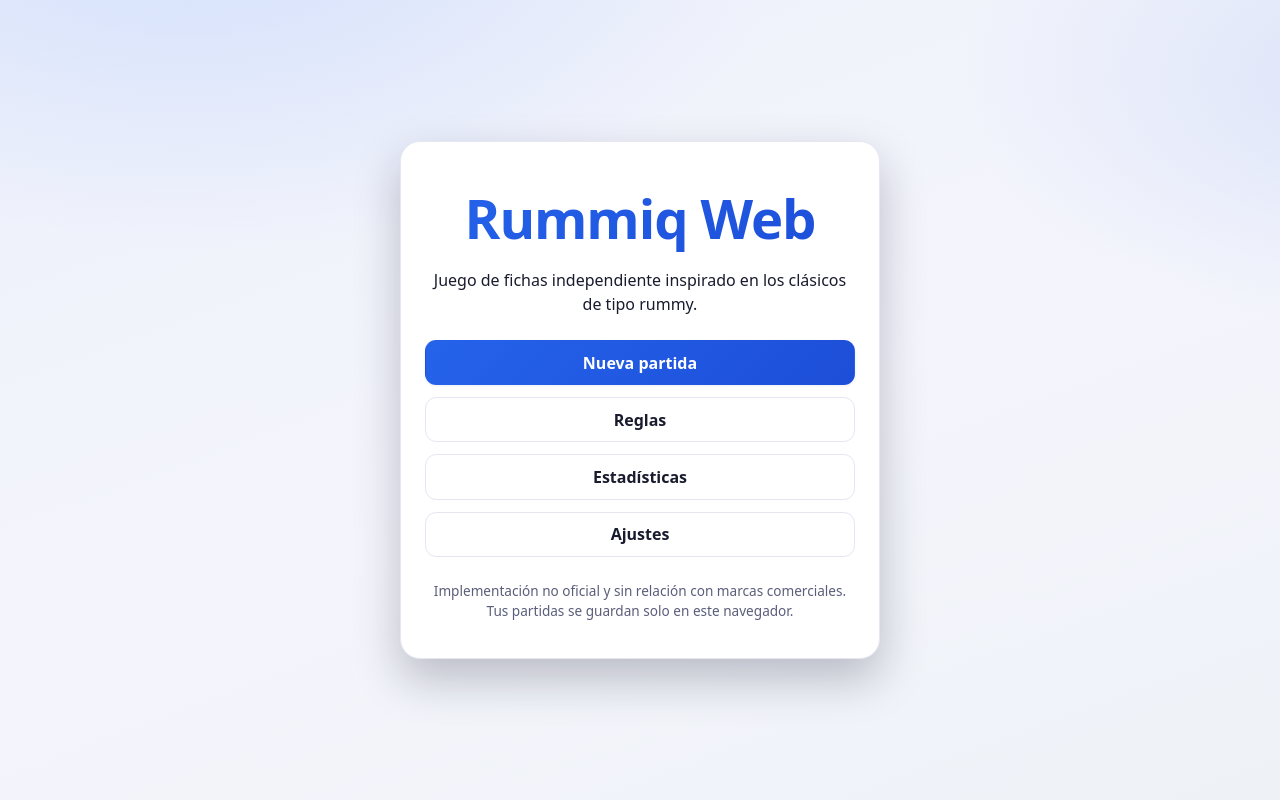
Test: flujo principal › permite configurar una partida, entrar al tablero y robar una ficha
This screenshot has width=1280, height=800.
Click the button "Nueva partida" at (640, 363), box [425,340,855,385]
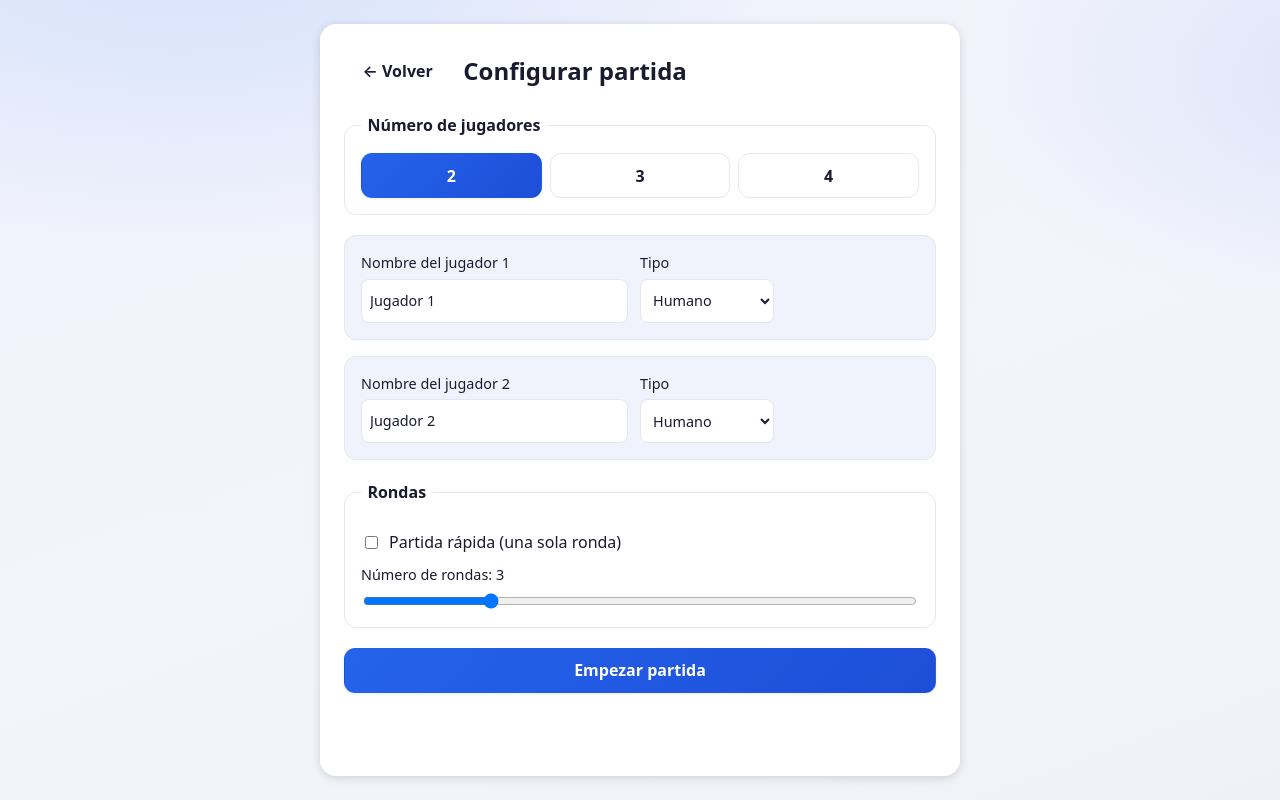
expect the heading "Configurar partida" is shown: met, box [463,53,687,89]
// Empezar con la configuración por defecto (2 jugadores humanos).
Click the button "Empezar partida" at (640, 670), box [344,648,936,693]
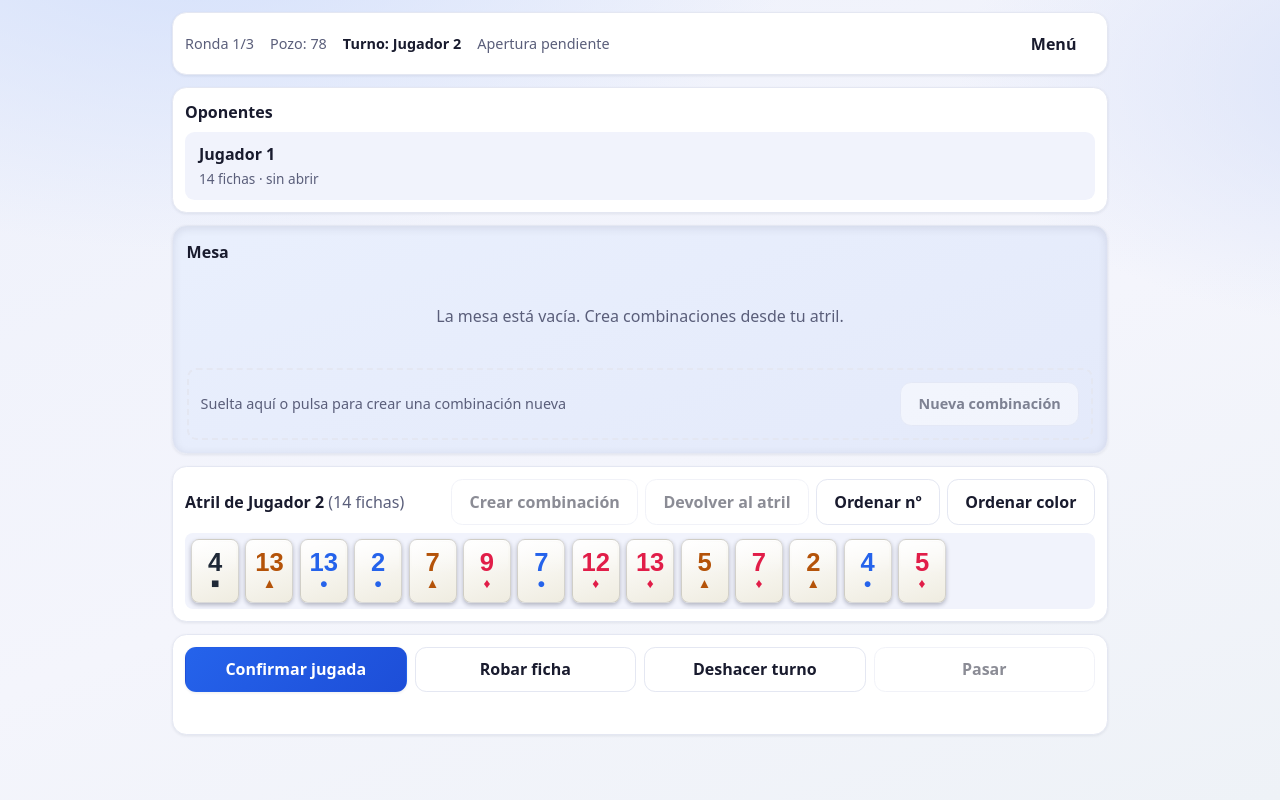
expect the heading "Mesa" is shown: met, box [187,241,229,263]
expect the heading "Atril de Jugador 2 (14 fichas)" is shown: met, box [185,490,404,514]
expect the text "Pozo: 78" is shown: met, box [270,33,327,54]
// Robar una ficha reduce el pozo y pasa el turno.
Click the button "Robar ficha" at (525, 669), box [414,647,636,692]
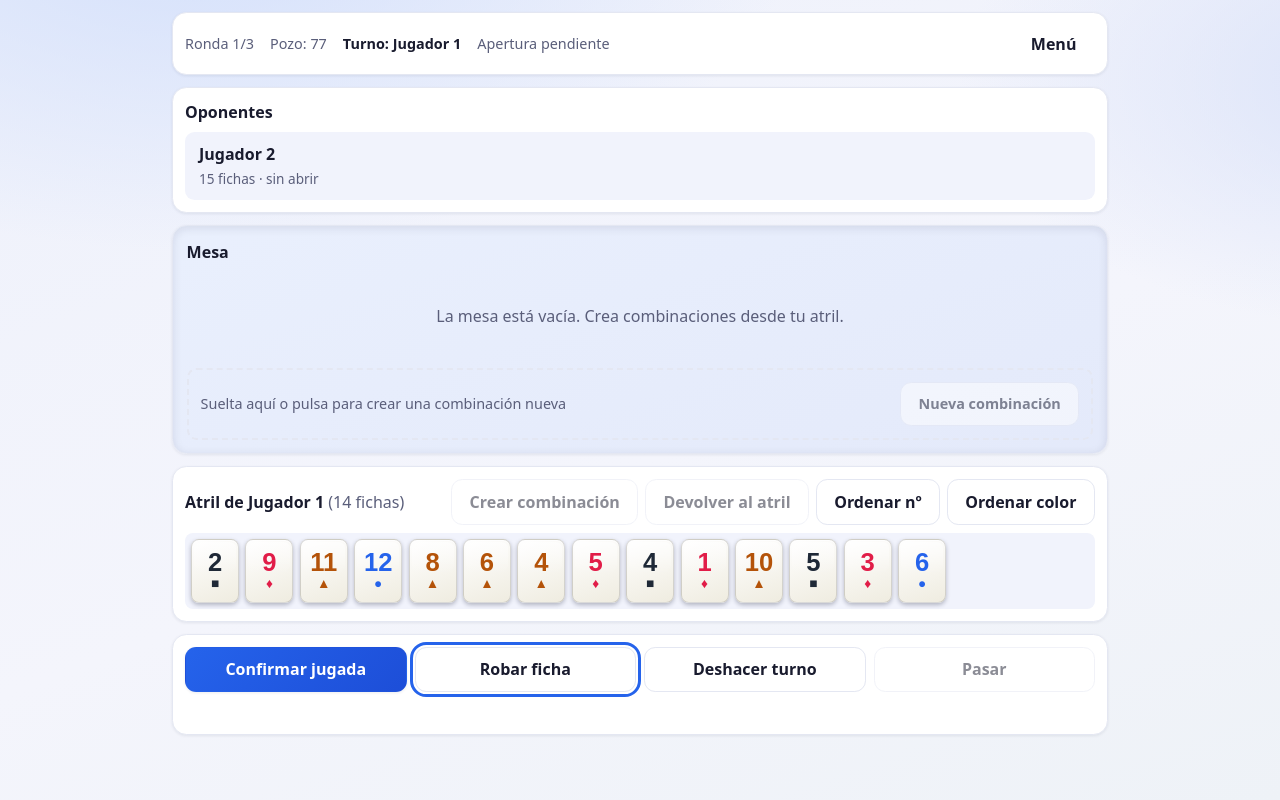
expect the text "Pozo: 77" is shown: met, box [270,33,327,54]
